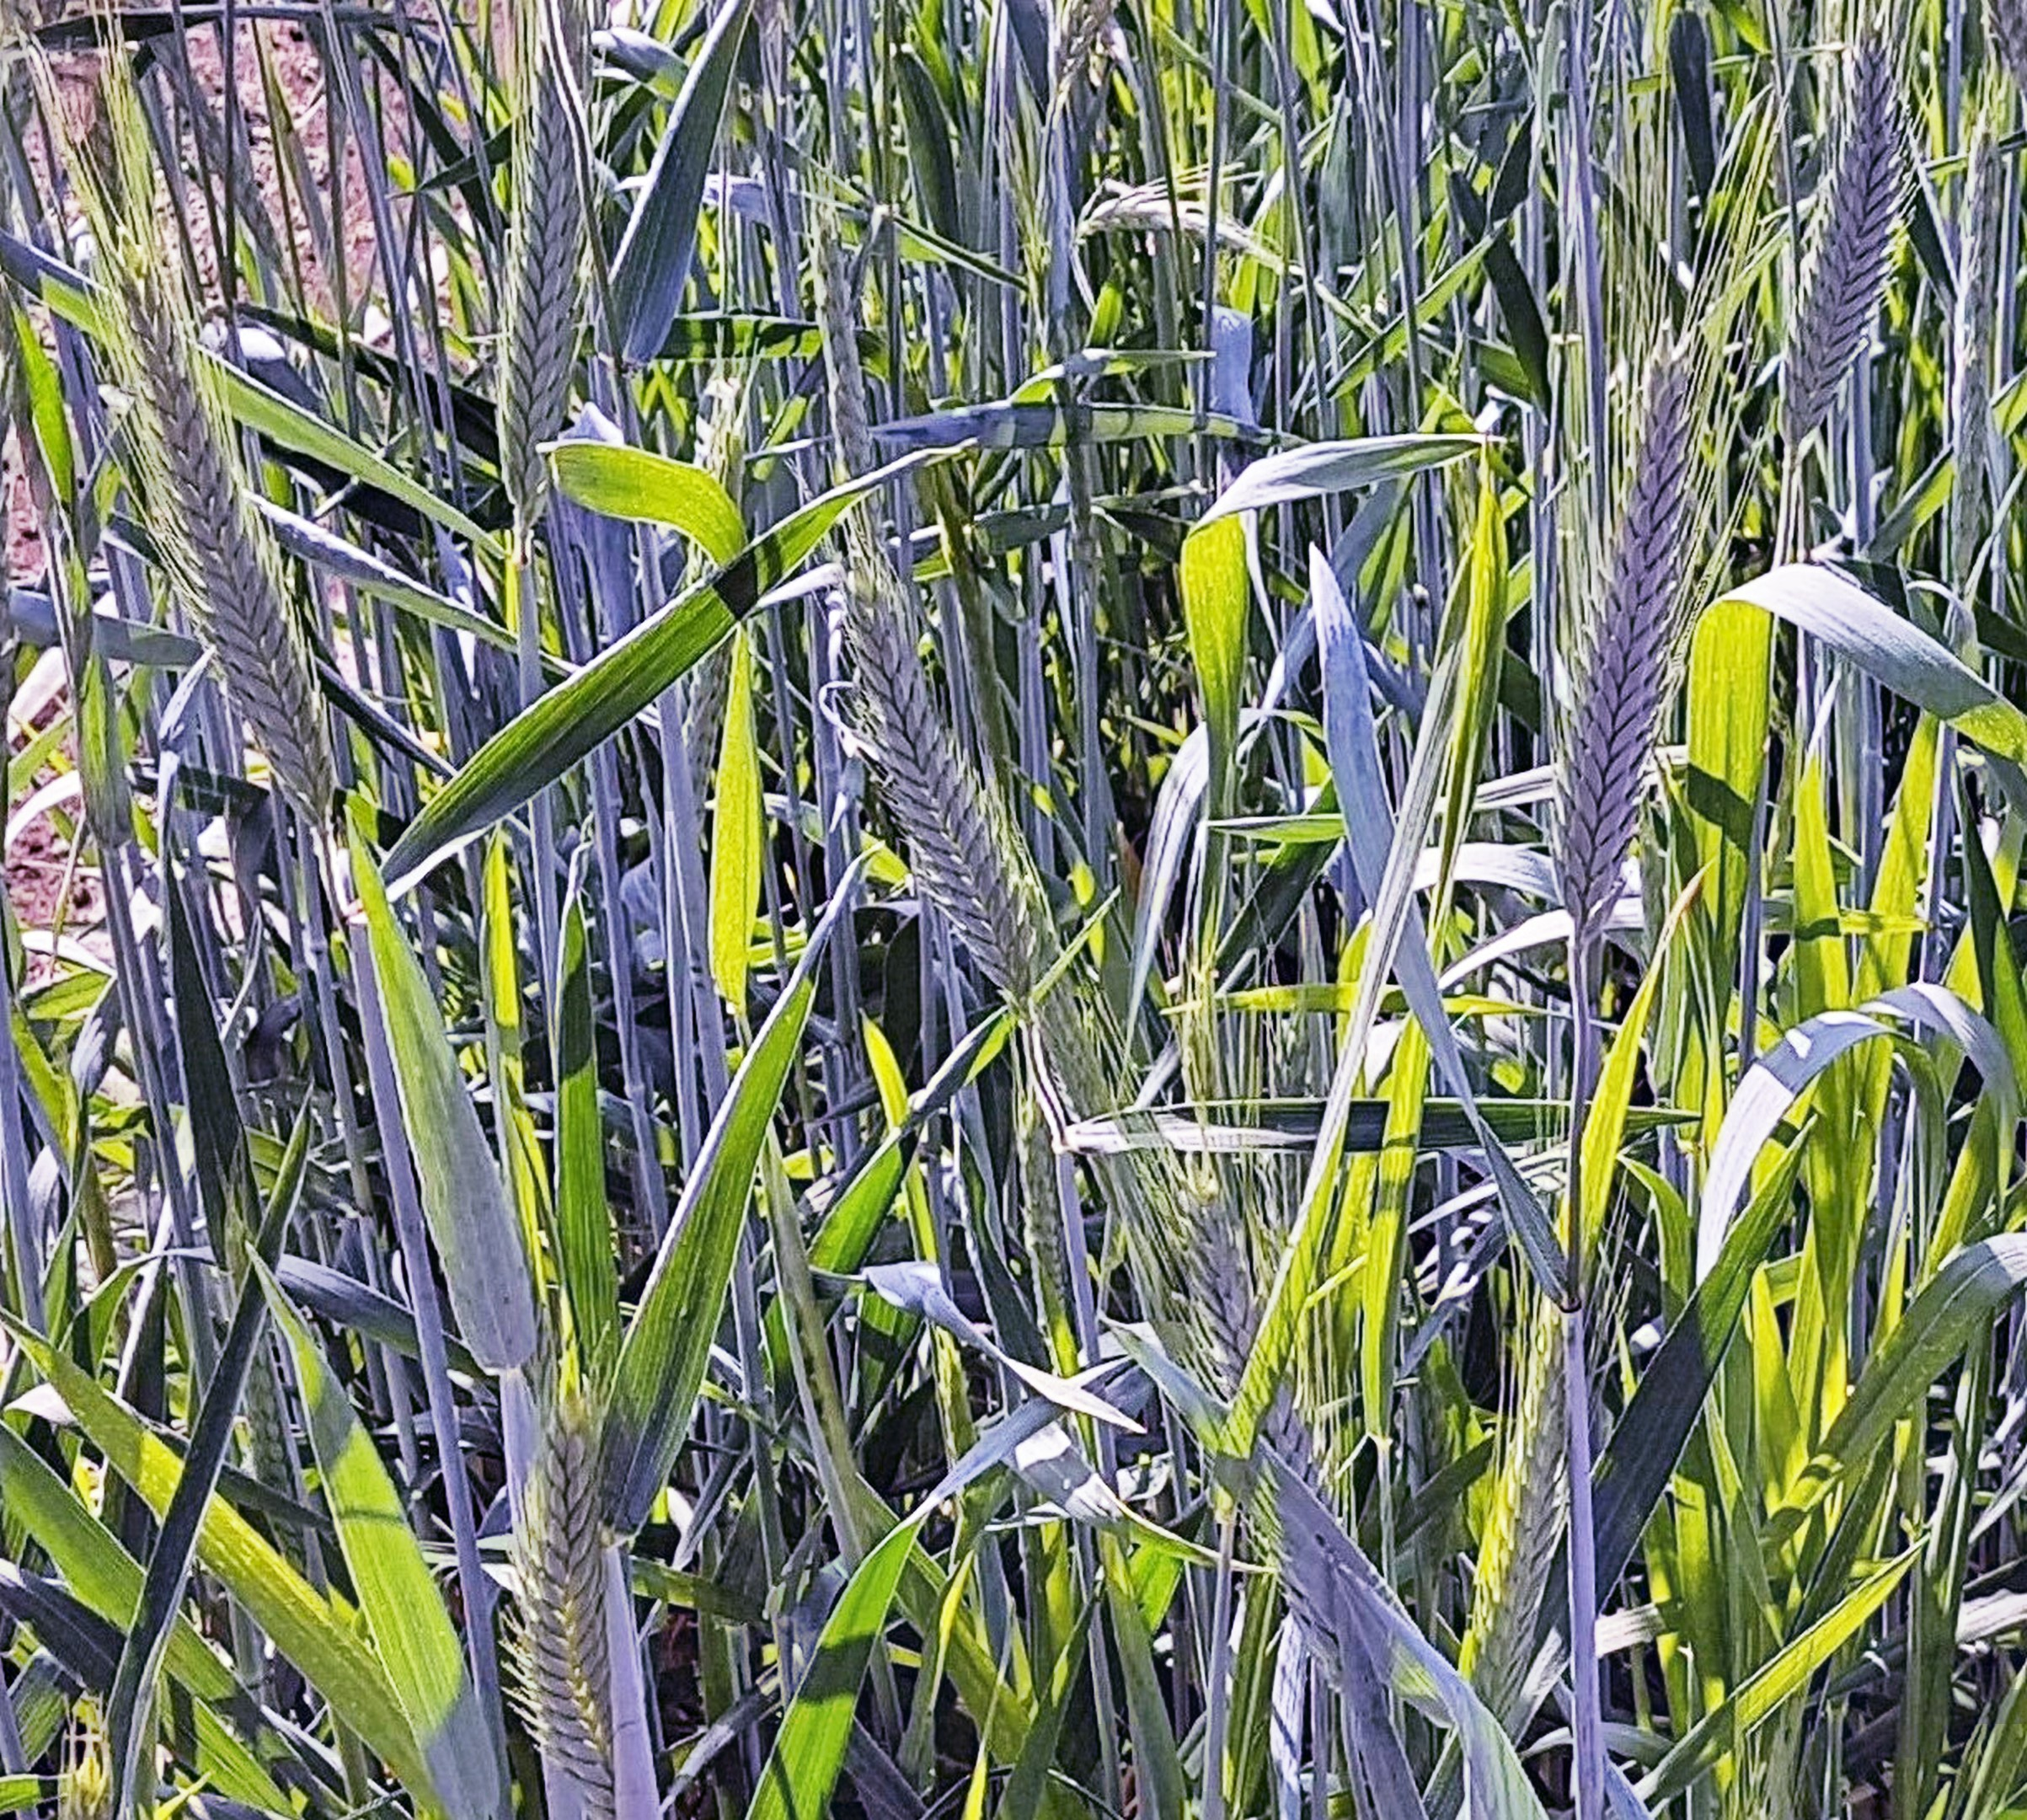Healthy Wheat: (107, 239, 369, 826), (1535, 327, 1742, 926), (827, 550, 1071, 1014), (1774, 28, 1943, 483), (492, 65, 618, 531), (515, 1398, 662, 1795)
